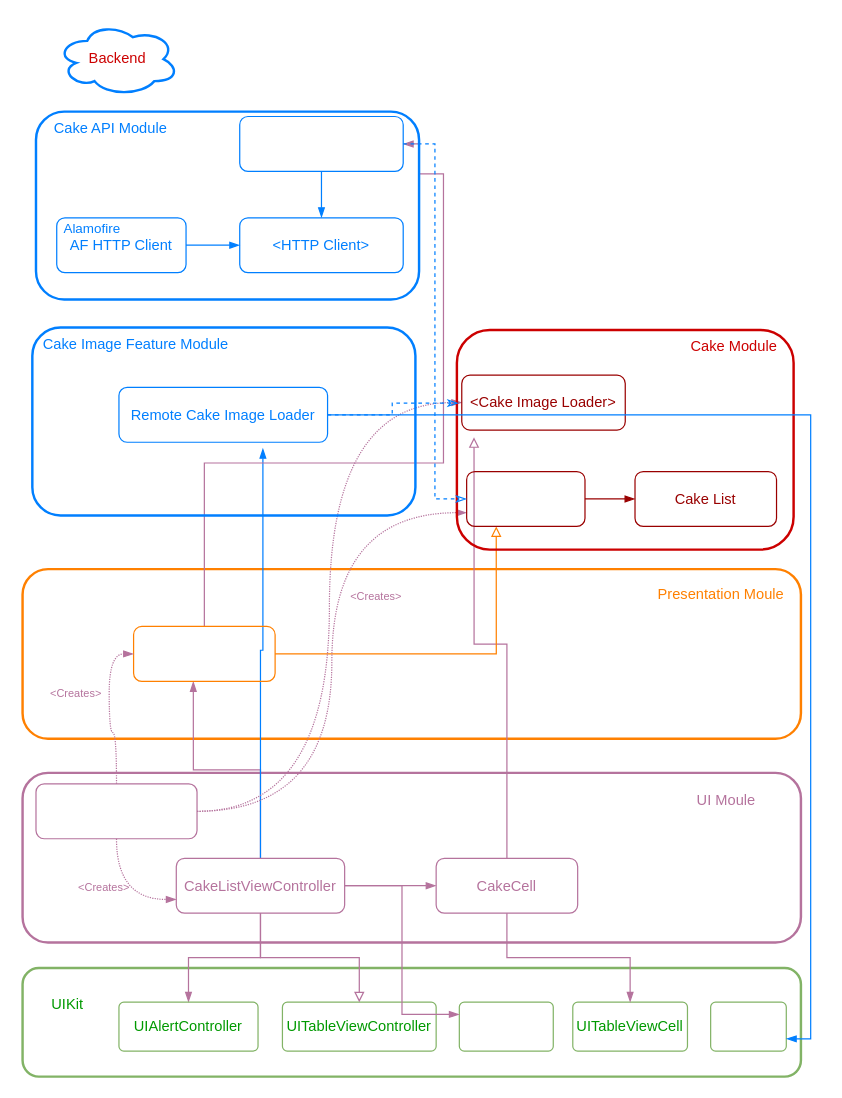
Some shapes in this 842 by 1098 pixel diagram are drawn without their labels. The box of each missing label's shape, as (x1, y1, x2, y2) in pixels:
<Cake Loader>: (465, 470, 585, 526)
CakeListUIComposer: (35, 783, 197, 839)
CakeViewModel: (132, 625, 275, 681)
Remote Cake Loader: (239, 115, 403, 171)
UIImage: (709, 1001, 786, 1051)
UITableView: (458, 1001, 553, 1051)
